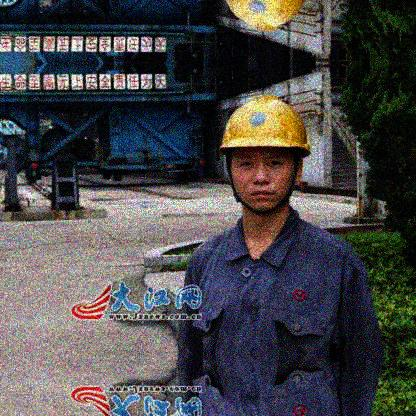helmet: (219, 96, 311, 212)
